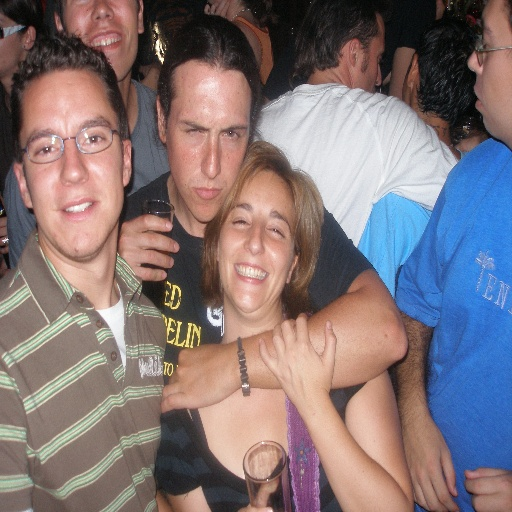hand: (251, 303, 348, 438), (400, 411, 460, 511), (160, 342, 241, 416), (120, 213, 180, 282), (463, 468, 511, 511), (237, 476, 280, 511), (453, 128, 488, 154), (136, 56, 162, 76), (203, 0, 230, 19), (0, 216, 9, 254)
